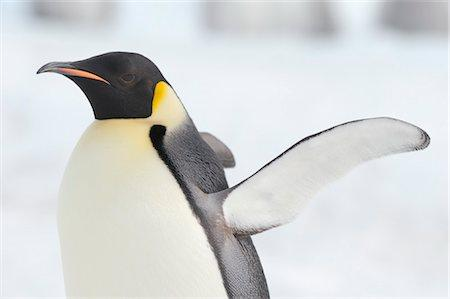emporer: (24, 41, 294, 299)
